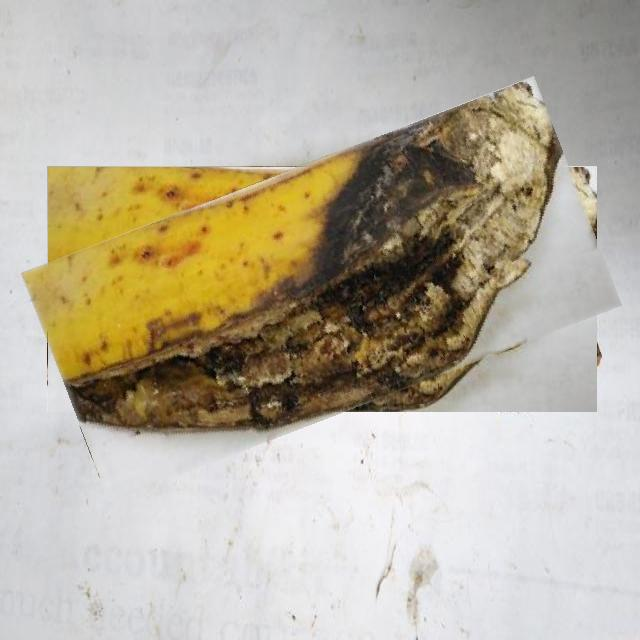Podre: (34, 121, 610, 457)
